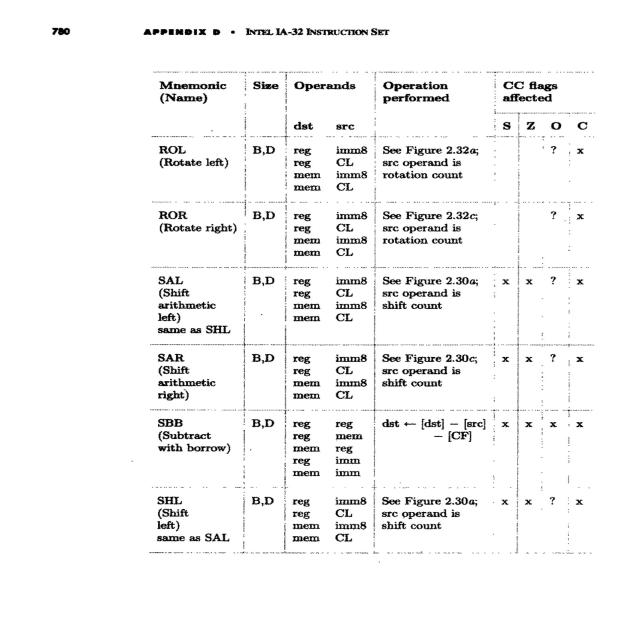diagram: (107, 55, 640, 569)
